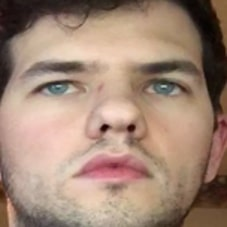drowsy: (18, 42, 204, 208)
